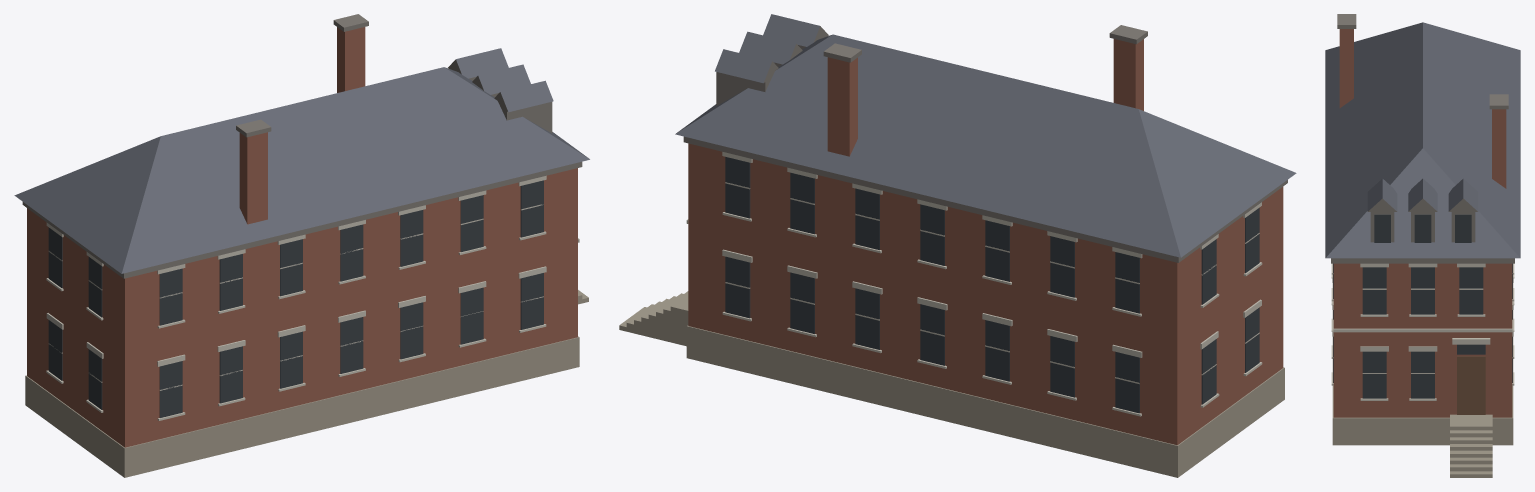
File: house_1928_calumet__draft_1904.glb
3 views of the same model, side by side, from view 1: azimuth 30°, elevation 25°; view 2: azimuth 150°, elevation 25°; view 3: azimuth 270°, elevation 25° (orthographic). The views are drawn at different scales.
Visible parts, largest first — view 1: house_1928_calumet__draft_1904; view 2: house_1928_calumet__draft_1904; view 3: house_1928_calumet__draft_1904.
Part boxes in pixels (bbox=[...]): house_1928_calumet__draft_1904: bbox=[14, 14, 589, 477]; house_1928_calumet__draft_1904: bbox=[619, 14, 1296, 477]; house_1928_calumet__draft_1904: bbox=[1325, 14, 1520, 477].
Size of the model in its own units: 23.65 by 13.18 by 8.2.
